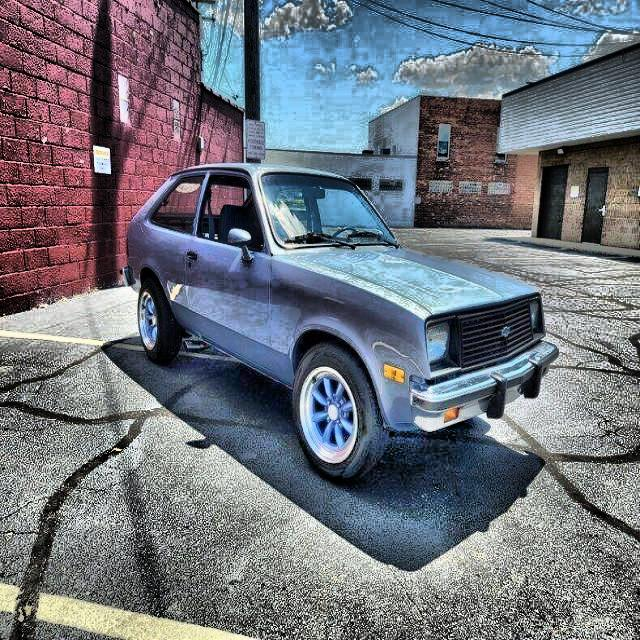carro: (124, 165, 557, 484)
